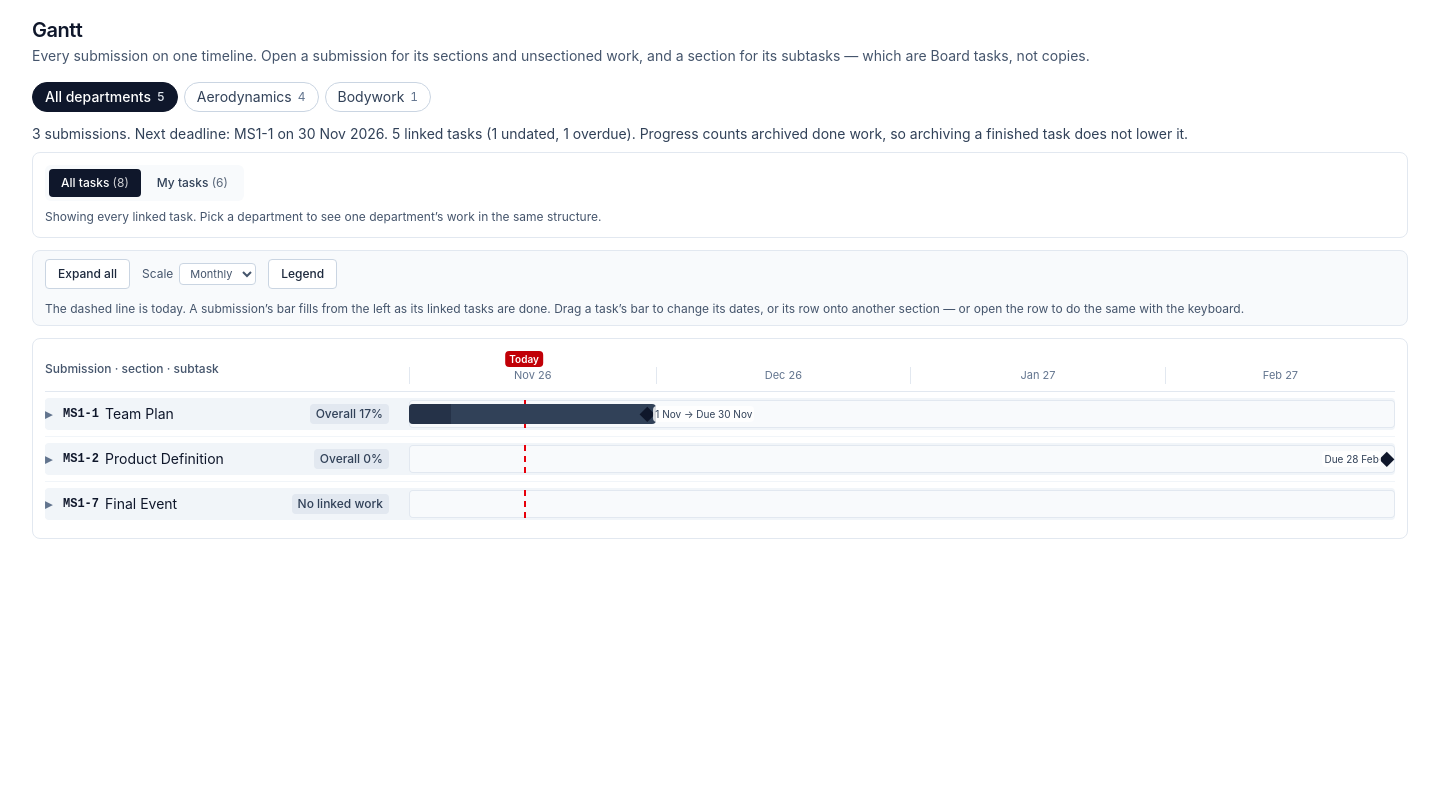
Scenario: the timeline structure › expands a submission into sections and its unsectioned work, then a section into its tasks
The image size is (1440, 810).
Click the button "▸ MS1-1 Team Plan" at point(109, 414), box [45,404,174,424]
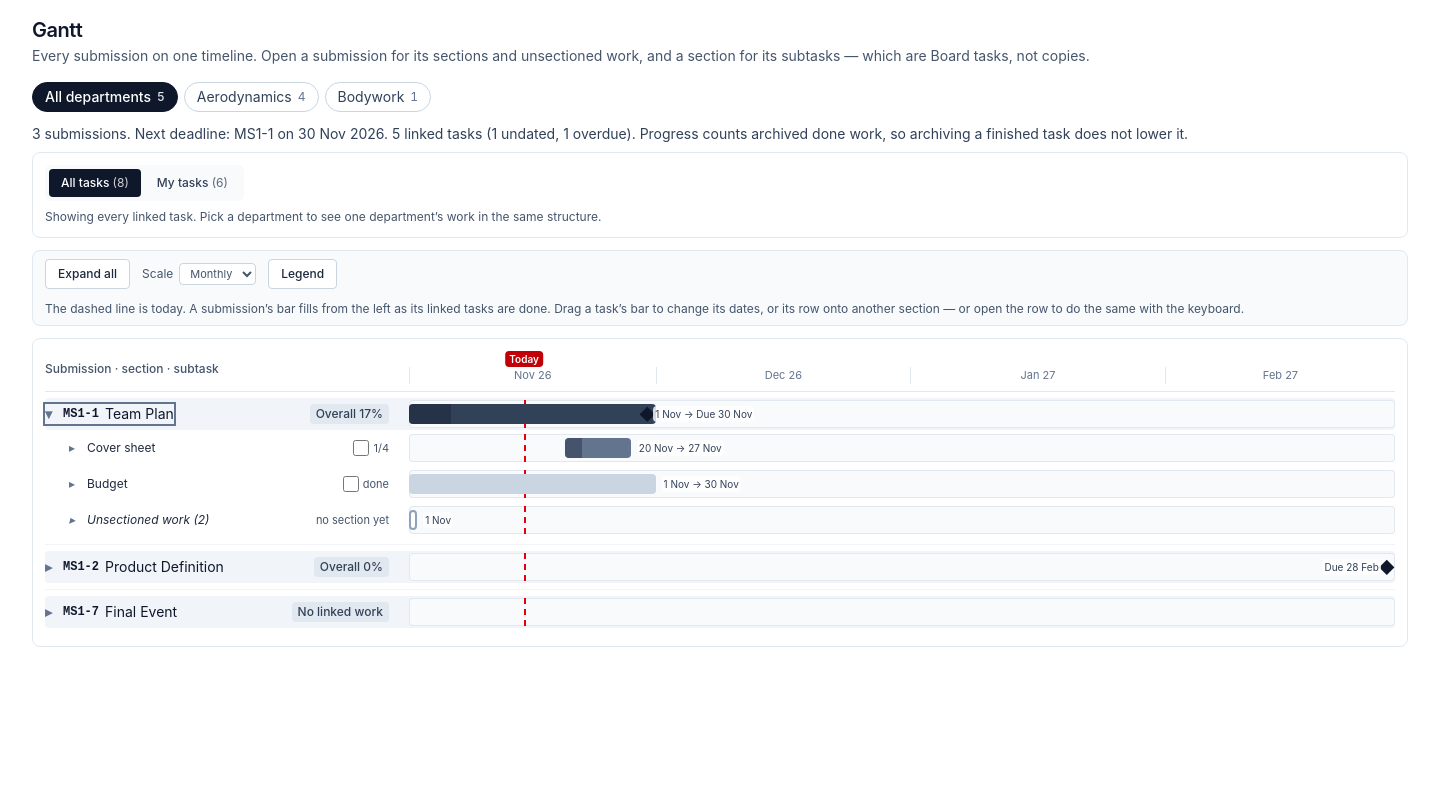
Check: the element with test id "gantt-section-sec1" is shown, box [45,430,1395,466]
Check: the element with test id "gantt-section-sec2" is shown, box [45,466,1395,502]
Check: the element with test id "gantt-unsectioned-MS1-1" is shown, box [45,502,1395,538]
Click the button "▸ Cover sheet" at point(112, 448), box [69,440,156,456]
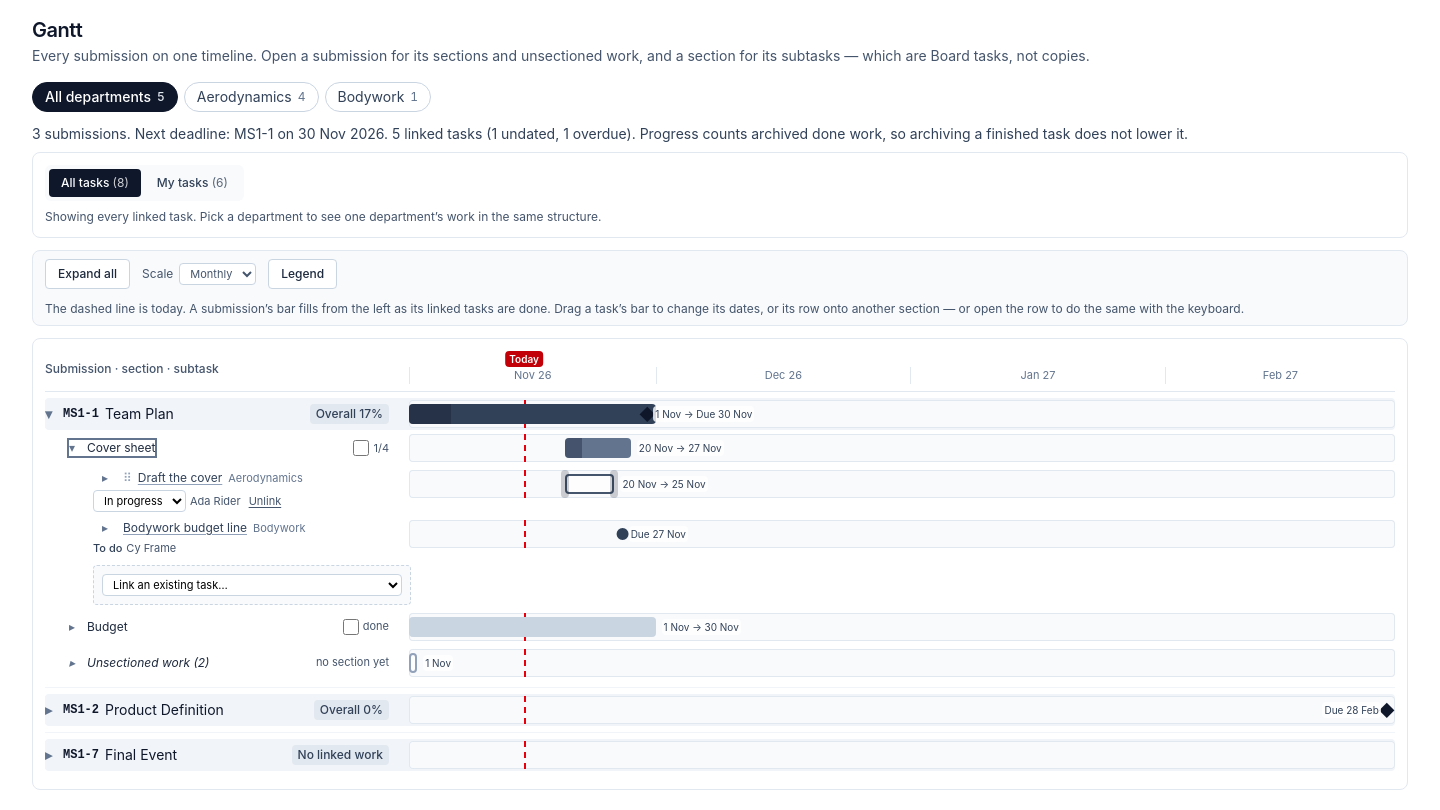
Check: the element with test id "gantt-task-t1" is shown, box [45,466,1395,516]
Check: the element with test id "gantt-task-t2" is shown, box [45,516,1395,560]
